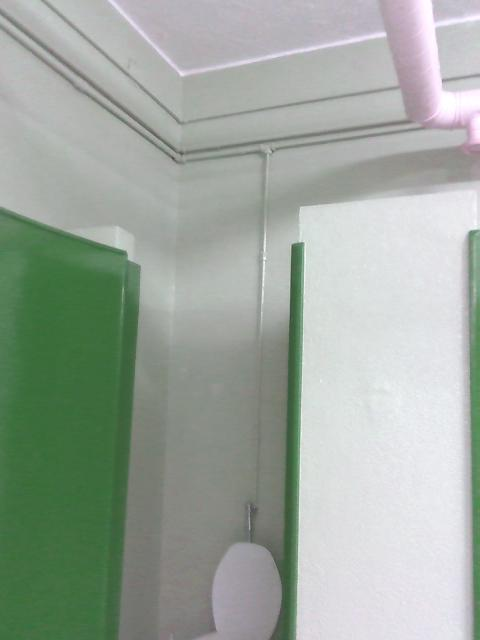open_door: (119, 206, 301, 638)
